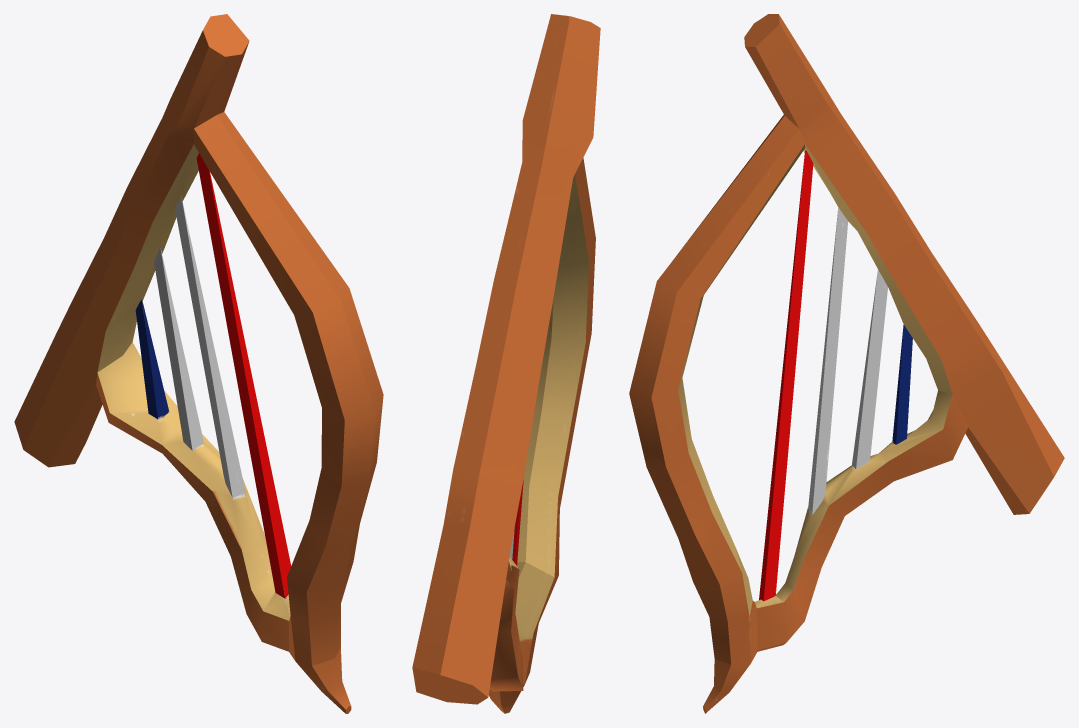
File: Arpa3_000017.obj
3 views of the same model, side by side, from view 1: azimuth 30°, elevation 25°; view 2: azimuth 150°, elevation 25°; view 3: azimuth 270°, elevation 25° (orthographic). The views are drawn at different scales.
Parts seen in each view (by area): view 1: a3_Arpa_1:pCube6; view 2: a3_Arpa_1:pCube6; view 3: a3_Arpa_1:pCube6.
Boxes of the visible parts, x1,y1,x2,y2 form: a3_Arpa_1:pCube6: (14,14,383,713); a3_Arpa_1:pCube6: (412,14,600,713); a3_Arpa_1:pCube6: (629,14,1064,713).
Size of the model in its own units: 2.54 by 10.01 by 6.04.
